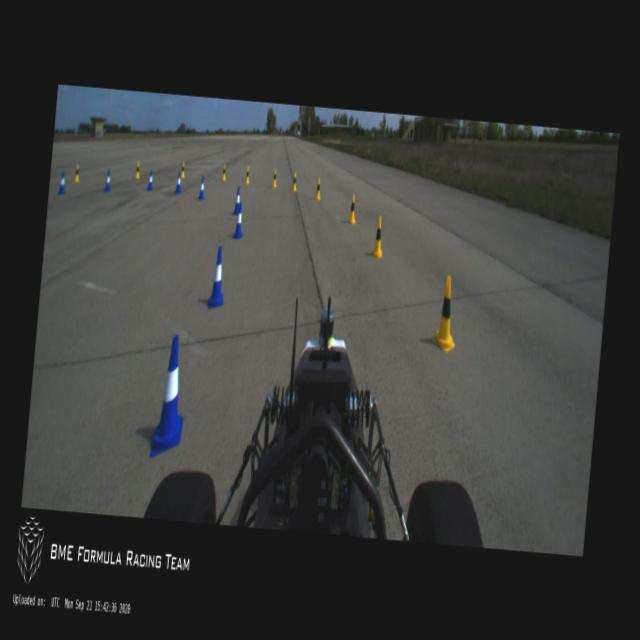blue_cone: (150, 334, 190, 458), (207, 244, 228, 312), (232, 202, 245, 239), (57, 170, 67, 196), (232, 186, 240, 214), (197, 175, 205, 200), (174, 171, 182, 194), (146, 169, 154, 191), (104, 170, 112, 192)
yellow_cone: (432, 274, 460, 354), (371, 215, 385, 259), (347, 192, 357, 225), (314, 177, 322, 200), (290, 170, 298, 192), (73, 163, 81, 183), (244, 165, 250, 184), (220, 164, 227, 180), (180, 160, 186, 178), (272, 168, 278, 186), (134, 162, 140, 179)
